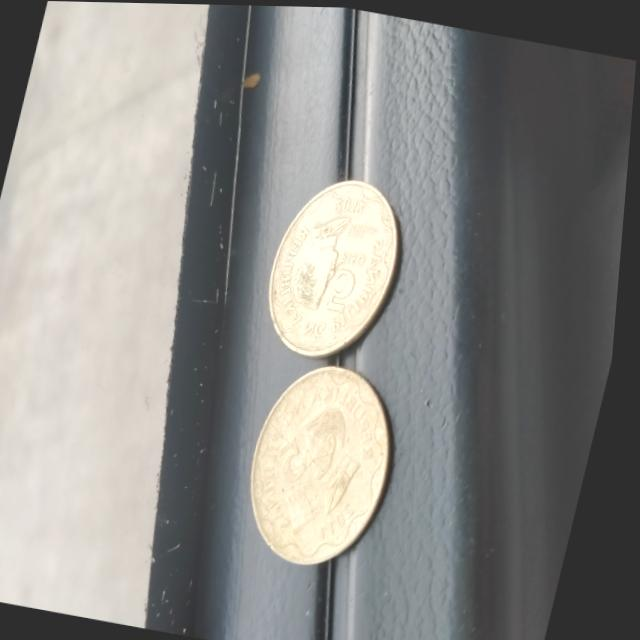5_Old_Front: (271, 430, 330, 502), (323, 241, 373, 315)
